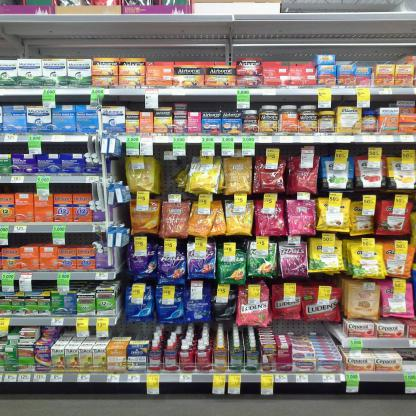Void: (190, 94, 235, 111), (52, 182, 101, 194), (9, 233, 51, 244), (0, 186, 36, 194)
